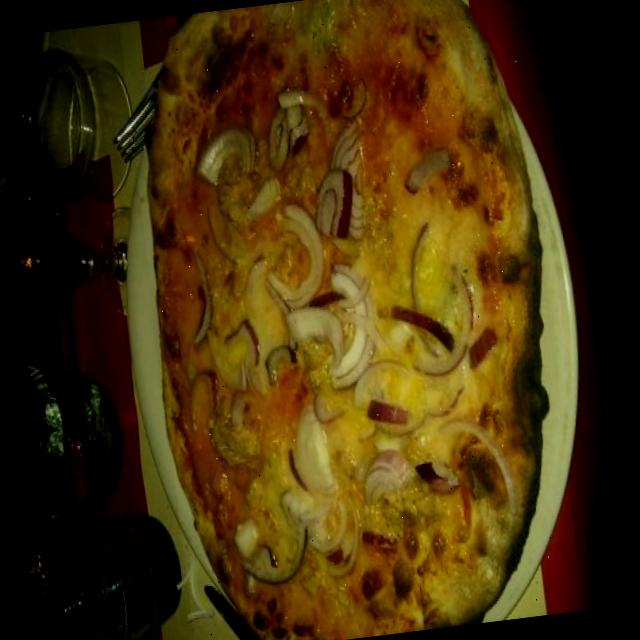pizza: (147, 0, 544, 640)
